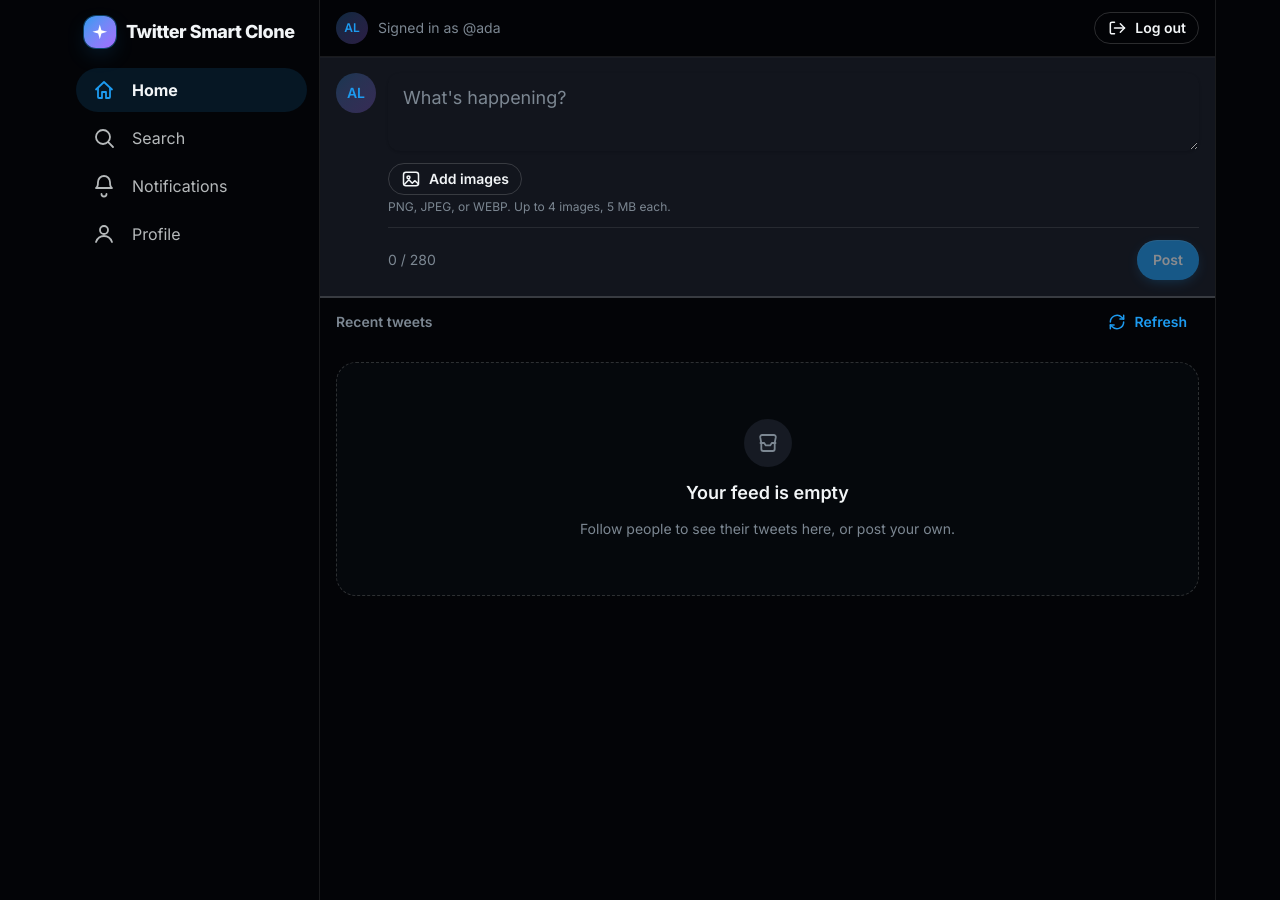
Scenario: FollowButton › renders no follow control on your own profile
This screenshot has width=1280, height=900.
Click the text "Signed in as @ada": (439, 28) 378,18 -> 500,38
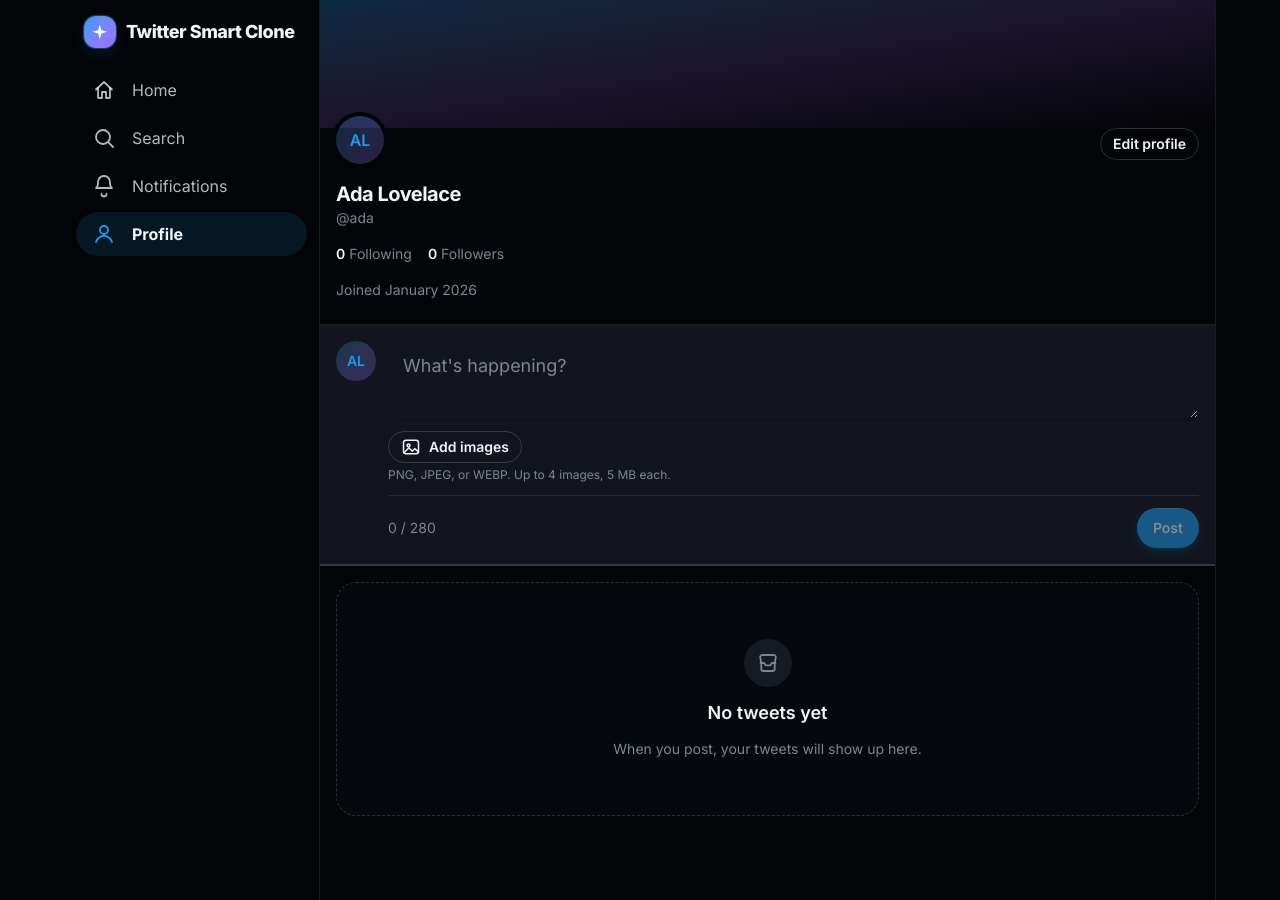
Expected: the heading "Ada Lovelace" is shown, 336,182 -> 461,206
